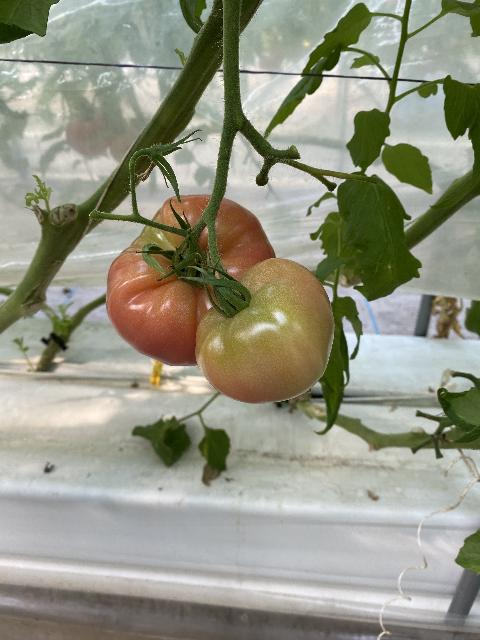b_half_ripened: (105, 195, 276, 366), (194, 257, 335, 404)
